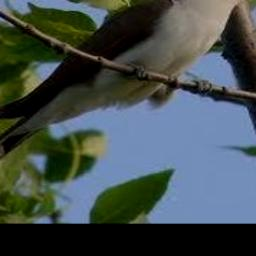Cuckoo: (0, 0, 256, 212)
